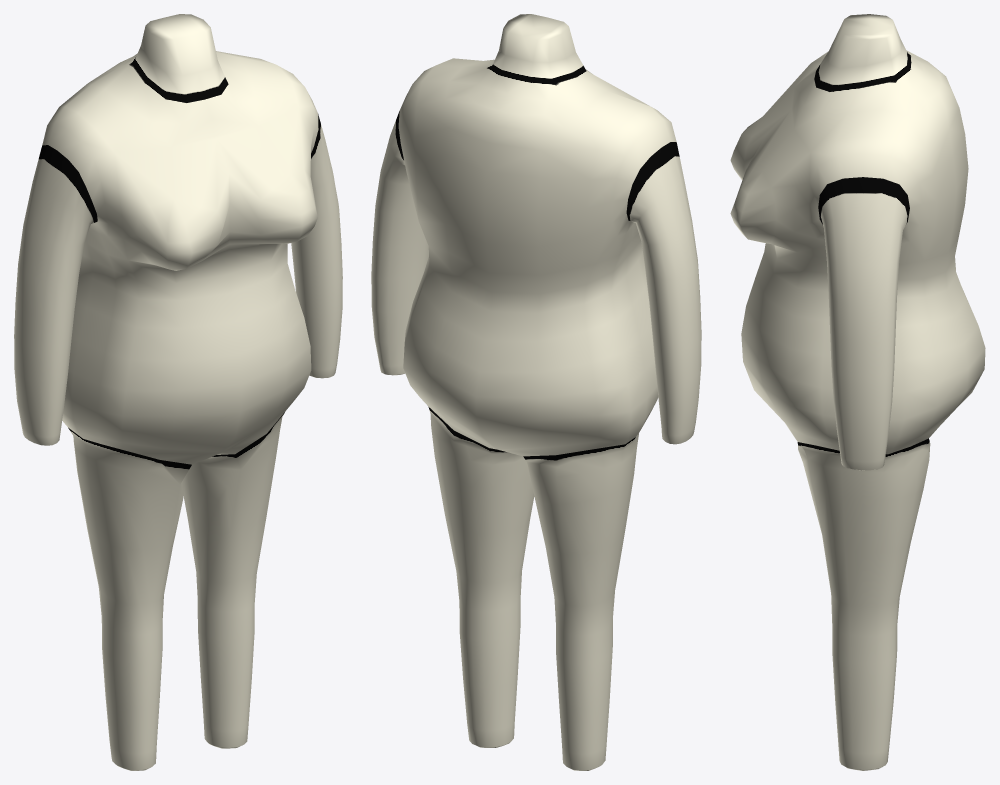
File: mannequin.fbx
3 renders of one model, left to right at view 1: azimuth 30°, elevation 25°; view 2: azimuth 150°, elevation 25°; view 3: azimuth 270°, elevation 25°, orthographic.
Visible parts, largest first — view 1: pSphere2; view 2: pSphere2; view 3: pSphere2.
Boxes of the visible parts, box(x1,y1,x2,y2) form: pSphere2: box(14, 14, 342, 770); pSphere2: box(371, 14, 701, 770); pSphere2: box(730, 14, 985, 770).
Bounding box in the file's own units: 4 × 8.72 × 2.82.
